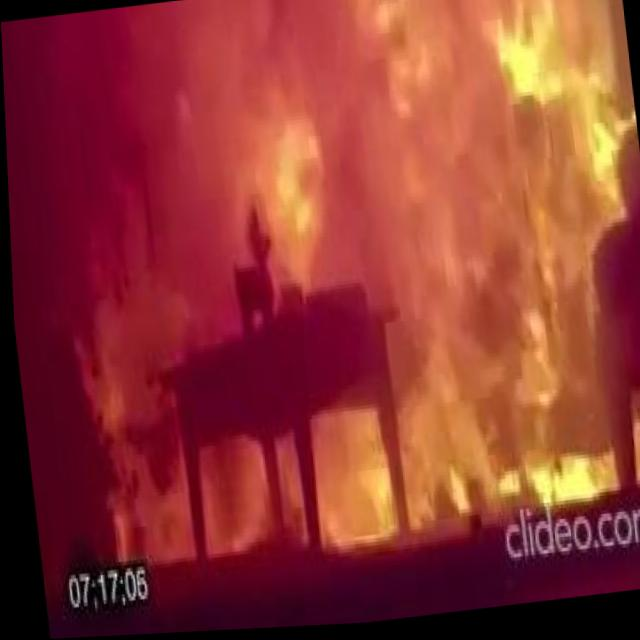fire: (330, 0, 640, 272), (378, 255, 623, 535), (51, 268, 187, 567), (236, 0, 364, 293), (307, 417, 389, 544)
